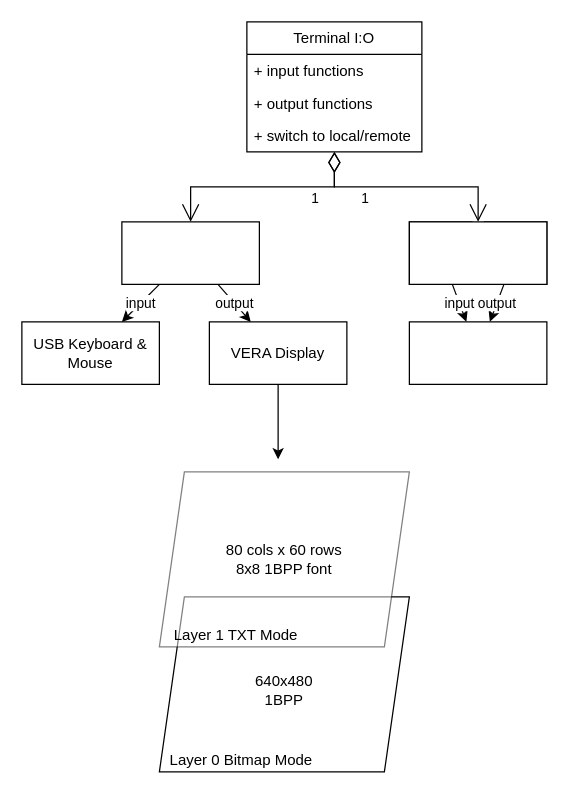
The diagram is 569 pixels wide and 794 high, and some of its shapes have lost their labels. The centre of each missing label's shape, as x and y in pixels:
Local Terminal: the point at 190,252
Remote Terminal: the point at 477,252
Serial: the point at 477,352
